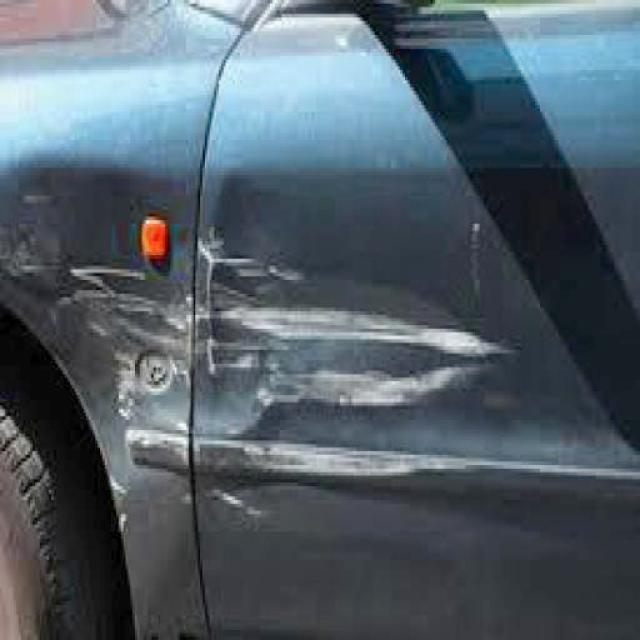car damage: (63, 227, 512, 441), (244, 441, 428, 483)
